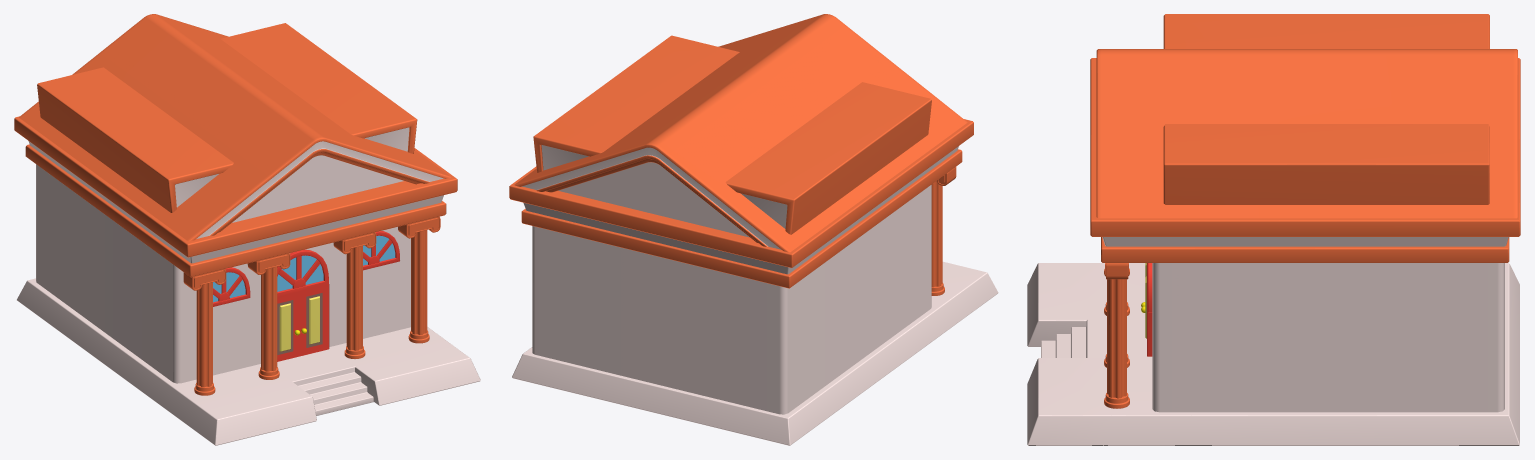
Rendered from Public_12_Theater_1.glb.
The picture shows the model from 3 angles, left to right: view 1: azimuth 30°, elevation 25°; view 2: azimuth 150°, elevation 25°; view 3: azimuth 270°, elevation 25°; orthographic projection. The views are drawn at different scales.
Visible parts, largest first — view 1: Public_12_Theater_1; view 2: Public_12_Theater_1; view 3: Public_12_Theater_1.
Part boxes in pixels (box(x1,y1,x2,y2)): Public_12_Theater_1: box(14, 14, 480, 445); Public_12_Theater_1: box(509, 14, 998, 445); Public_12_Theater_1: box(1027, 14, 1520, 445).
Size of the model in its own units: 12.67 by 11.4 by 16.18.
1 material, 1 textured.
